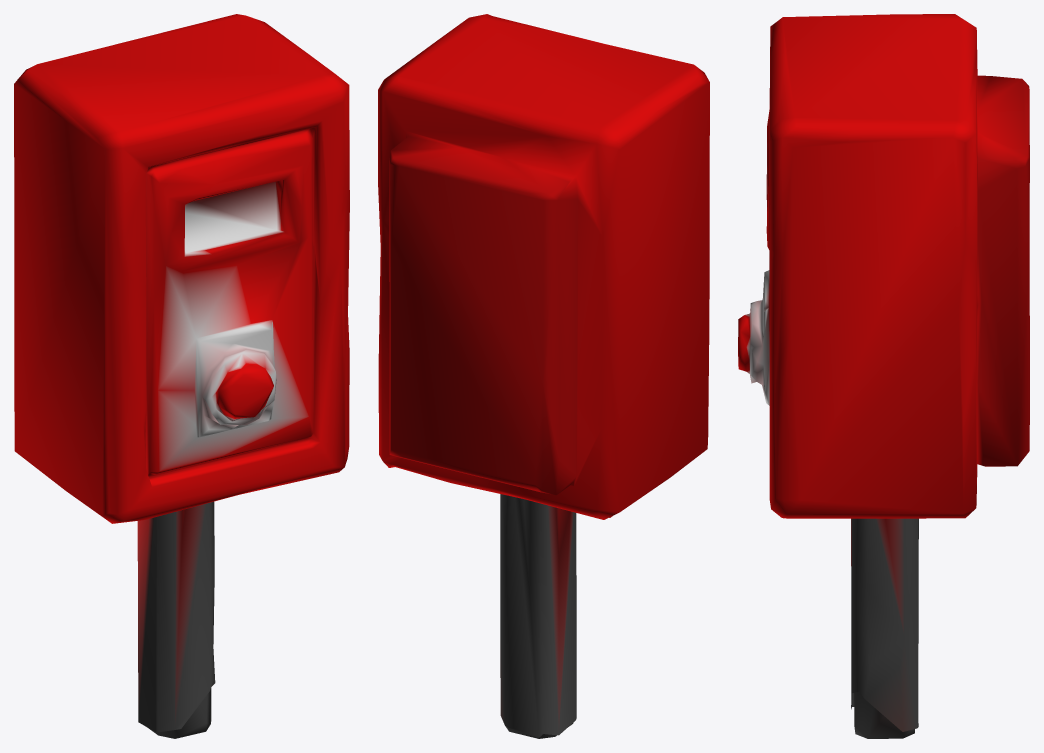
The model's file is gen3d-fire-alarm-box-lod1.glb.
The picture shows the model from 3 angles, left to right: view 1: azimuth 30°, elevation 25°; view 2: azimuth 150°, elevation 25°; view 3: azimuth 270°, elevation 25°; orthographic projection.
Parts seen in each view (by area): view 1: part_0; view 2: part_0; view 3: part_0.
Boxes of the visible parts, x1,y1,x2,y2 form: part_0: (14, 14, 349, 738); part_0: (378, 14, 709, 738); part_0: (738, 14, 1029, 738).
Size of the model in its own units: 0.39 by 1 by 0.4014.
